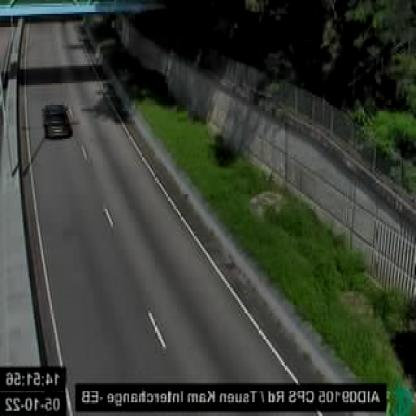Car: (43, 104, 74, 139)
